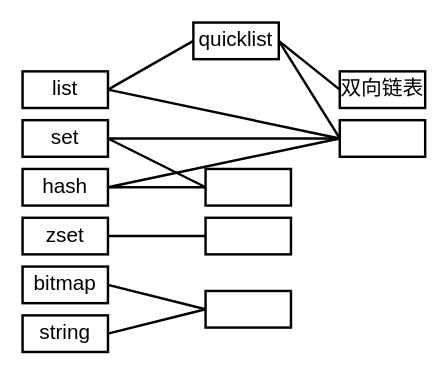
This 447x373 diagram has some shape labels left out. The centre of each missing label's shape, as x and y in pixels:
"dict" goes at point (248, 186).
"listpack" goes at point (382, 137).
"sds" goes at point (248, 308).
"skiplist" goes at point (248, 235).
